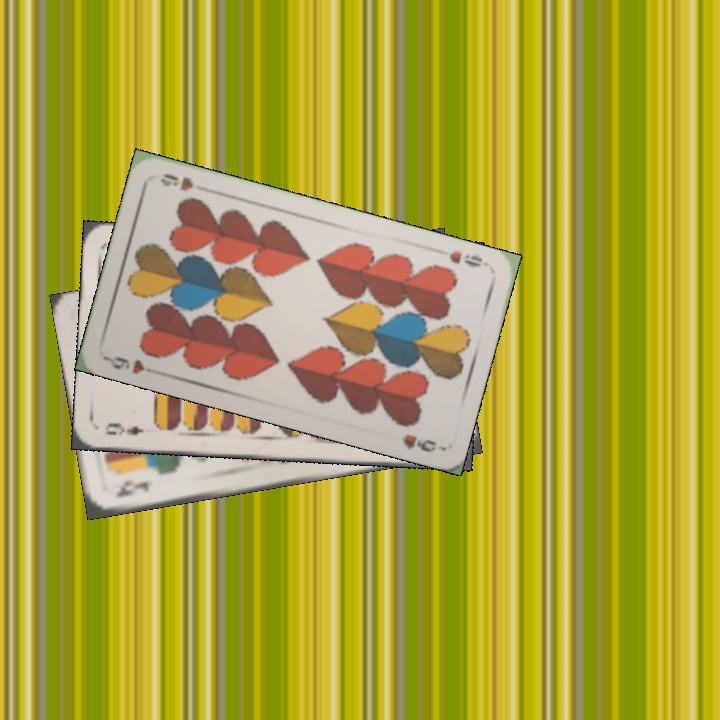E9: (101, 418, 146, 438)
EK: (111, 476, 155, 499)
H9: (103, 352, 161, 377), (445, 246, 485, 270)
